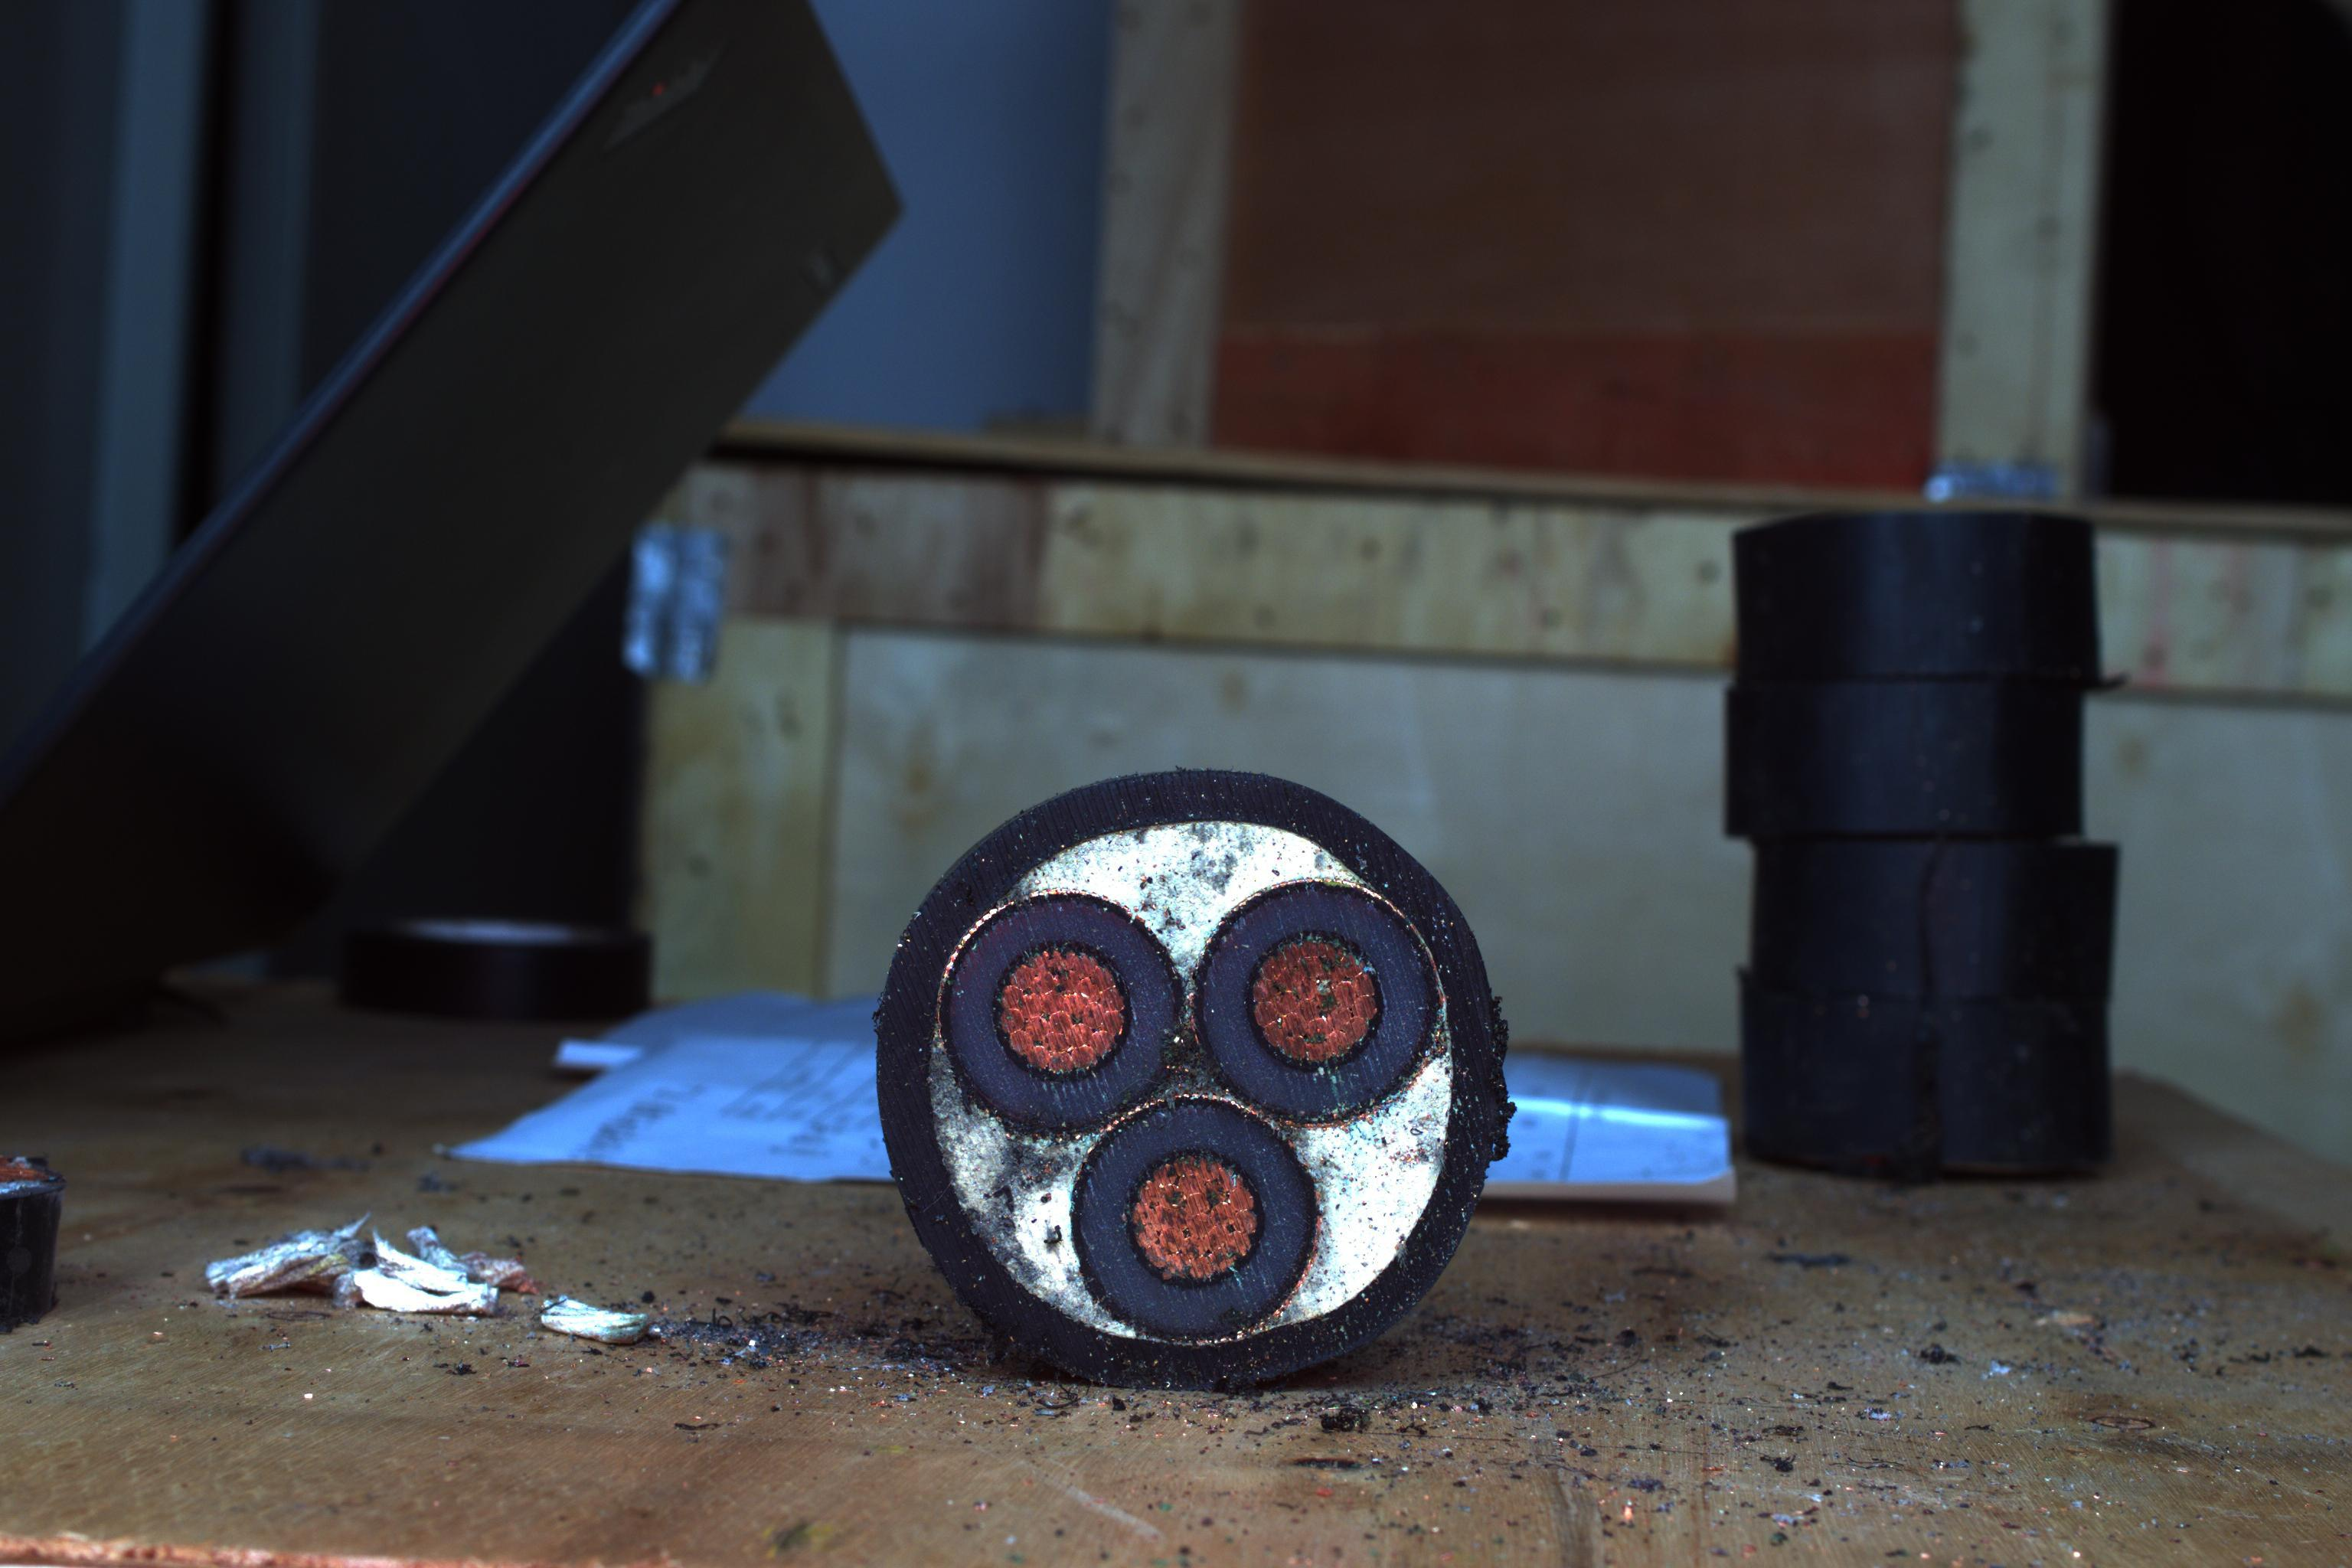ZA_YJV_8.7_10kV_3x120: (903, 798, 1494, 1365)
